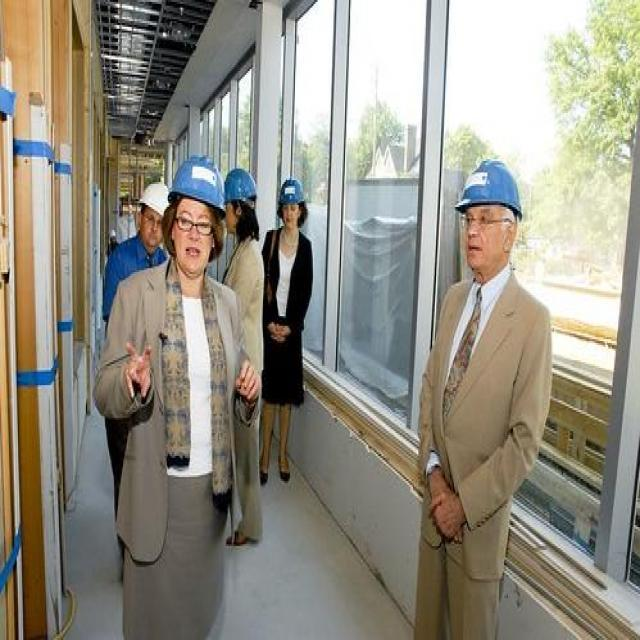safety_helmet: (451, 153, 529, 222), (163, 147, 227, 220), (133, 174, 174, 229), (219, 163, 261, 213), (272, 170, 312, 214)
